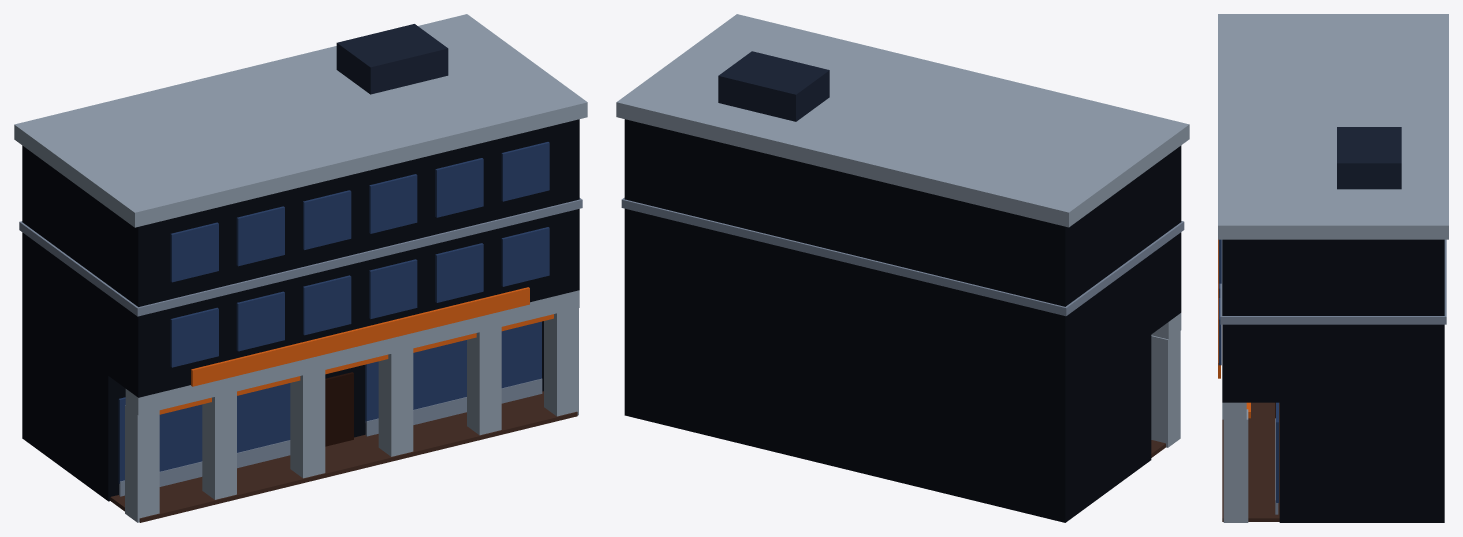
File: retailpark2.obj
3 views of the same model, side by side, from view 1: azimuth 30°, elevation 25°; view 2: azimuth 150°, elevation 25°; view 3: azimuth 270°, elevation 25° (orthographic). The views are drawn at different scales.
Visible parts, largest first — view 1: upper-block, cornice, upper-windows, colonnade, ground-back, shopfronts, arcade-floor, arcade-beam, fascia-sign, roof-plant, floor-band, stallrisers (+2 smaller); view 2: upper-block, ground-back, cornice, floor-band, roof-plant, colonnade; view 3: cornice, upper-block, ground-back, roof-plant, arcade-floor, colonnade, floor-band, upper-windows, arcade-beam, shopfronts.
Boxes of the visible parts, x1=… form: upper-block: x1=22, y1=119, x2=579, y2=397; cornice: x1=14, y1=14, x2=587, y2=227; upper-windows: x1=170, y1=142, x2=549, y2=367; colonnade: x1=125, y1=308, x2=578, y2=522; ground-back: x1=22, y1=313, x2=543, y2=501; shopfronts: x1=118, y1=321, x2=541, y2=483; arcade-floor: x1=110, y1=391, x2=577, y2=522; arcade-beam: x1=125, y1=290, x2=579, y2=415; fascia-sign: x1=191, y1=287, x2=529, y2=386; roof-plant: x1=336, y1=24, x2=448, y2=94; floor-band: x1=19, y1=198, x2=582, y2=316; stallrisers: x1=119, y1=378, x2=542, y2=496; upper-block: x1=624, y1=119, x2=1181, y2=397; ground-back: x1=624, y1=290, x2=1151, y2=522; cornice: x1=616, y1=14, x2=1189, y2=227; floor-band: x1=621, y1=197, x2=1184, y2=316; roof-plant: x1=718, y1=51, x2=829, y2=121; colonnade: x1=1151, y1=331, x2=1180, y2=447; cornice: x1=1218, y1=14, x2=1448, y2=239; upper-block: x1=1222, y1=239, x2=1444, y2=402; ground-back: x1=1279, y1=402, x2=1444, y2=522; roof-plant: x1=1337, y1=127, x2=1401, y2=189; arcade-floor: x1=1222, y1=402, x2=1279, y2=521; colonnade: x1=1223, y1=409, x2=1248, y2=522; floor-band: x1=1220, y1=239, x2=1446, y2=324; upper-windows: x1=1218, y1=239, x2=1221, y2=365; arcade-beam: x1=1222, y1=402, x2=1246, y2=419; shopfronts: x1=1276, y1=402, x2=1278, y2=502.
Bounding box in the file's own units: 6.98 × 5.02 × 3.22.
